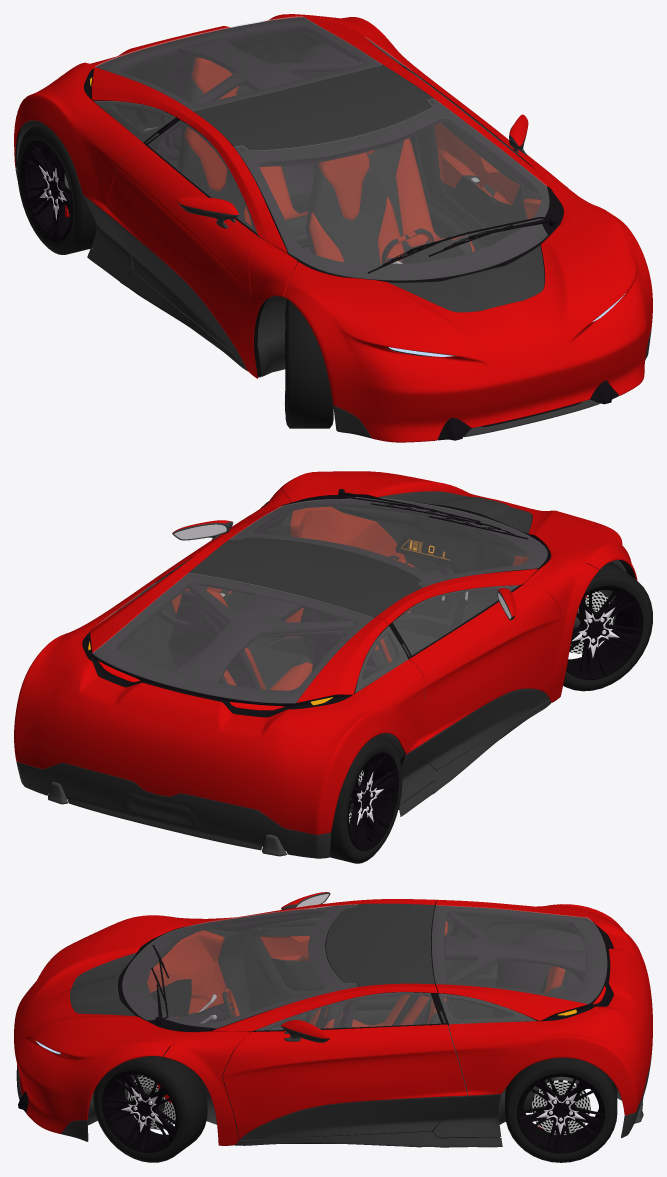
File: concepto.glb
3 views of the same model, one above another, from view 1: azimuth 30°, elevation 25°; view 2: azimuth 150°, elevation 25°; view 3: azimuth 270°, elevation 25° (orthographic). The views are drawn at different scales.
Parts seen in each view (by area): view 1: BodyHood, BodyWindshield, BodyRearwindow, BodyDoorRColor1, BodyRearPanelsColor1, BodyRoofPanel, BodyWindshieldGasket, InteriorSeatsColor1, InteriorSeatsColor2, BodyPillars, InteriorPillar, InteriorRearHatch (+21 smaller); view 2: BodyRearPanelsColor1, BodyRearwindow, BodyWindshield, BodyPanelsColor2, BodyDoorRColor1, BodyRoofPanel, BodyHood, InteriorRearHatch, BodyPillars, InteriorPillar, BodyWindshieldGasket, InteriorDashMid (+21 smaller); view 3: BodyRearPanelsColor1, BodyWindshield, BodyDoorLColor1, BodyHood, BodyRearwindow, BodyRoofPanel, BodyPillars, BodyWindshieldGasket, BodyDoorLColor2, BodyPanelsColor2, WheelFrontL, InteriorRearHatch (+25 smaller).
Boxes of the visible parts, x1=… form: BodyHood: x1=283, y1=198, x2=652, y2=442; BodyWindshield: x1=234, y1=98, x2=549, y2=280; BodyRearwindow: x1=95, y1=16, x2=382, y2=110; BodyDoorRColor1: x1=104, y1=143, x2=257, y2=362; BodyRearPanelsColor1: x1=14, y1=14, x2=428, y2=210; BodyRoofPanel: x1=193, y1=65, x2=432, y2=150; BodyWindshieldGasket: x1=234, y1=99, x2=563, y2=282; InteriorSeatsColor1: x1=185, y1=57, x2=475, y2=264; InteriorSeatsColor2: x1=180, y1=78, x2=472, y2=264; BodyPillars: x1=176, y1=61, x2=598, y2=378; InteriorPillar: x1=158, y1=37, x2=434, y2=168; InteriorRearHatch: x1=93, y1=17, x2=383, y2=117; BodyRearPanelsColor1: x1=14, y1=569, x2=425, y2=834; BodyRearwindow: x1=92, y1=573, x2=373, y2=703; BodyWindshield: x1=229, y1=497, x2=547, y2=587; BodyPanelsColor2: x1=16, y1=700, x2=550, y2=858; BodyDoorRColor1: x1=409, y1=585, x2=562, y2=742; BodyRoofPanel: x1=189, y1=537, x2=422, y2=617; BodyHood: x1=279, y1=471, x2=637, y2=580; InteriorRearHatch: x1=93, y1=573, x2=386, y2=707; BodyPillars: x1=175, y1=489, x2=599, y2=702; InteriorPillar: x1=174, y1=574, x2=417, y2=682; BodyWindshieldGasket: x1=230, y1=497, x2=550, y2=587; InteriorDashMid: x1=331, y1=502, x2=528, y2=622; BodyRearPanelsColor1: x1=436, y1=899, x2=652, y2=1115; BodyWindshield: x1=122, y1=904, x2=357, y2=1028; BodyDoorLColor1: x1=222, y1=1024, x2=467, y2=1139; BodyHood: x1=14, y1=915, x2=196, y2=1133; BodyRearwindow: x1=432, y1=905, x2=606, y2=1003; BodyRoofPanel: x1=326, y1=903, x2=434, y2=986; BodyPillars: x1=163, y1=899, x2=437, y2=1145; BodyWindshieldGasket: x1=118, y1=905, x2=357, y2=1032; BodyDoorLColor2: x1=240, y1=1096, x2=467, y2=1140; BodyPanelsColor2: x1=16, y1=1050, x2=652, y2=1147; WheelFrontL: x1=93, y1=1054, x2=207, y2=1162; InteriorRearHatch: x1=431, y1=905, x2=606, y2=1020.
Bounding box in the file's own units: 2.54 × 1.15 × 4.36.
Materials: 22 (2 with a texture image).
